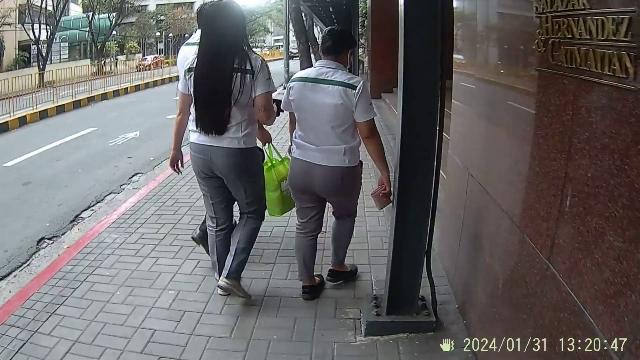utility_post: (369, 0, 459, 328)
